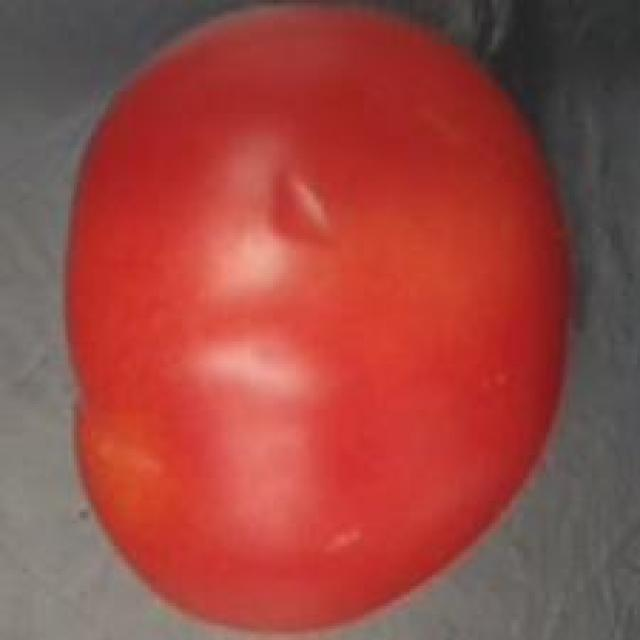ripe tomato: (48, 0, 583, 640)
